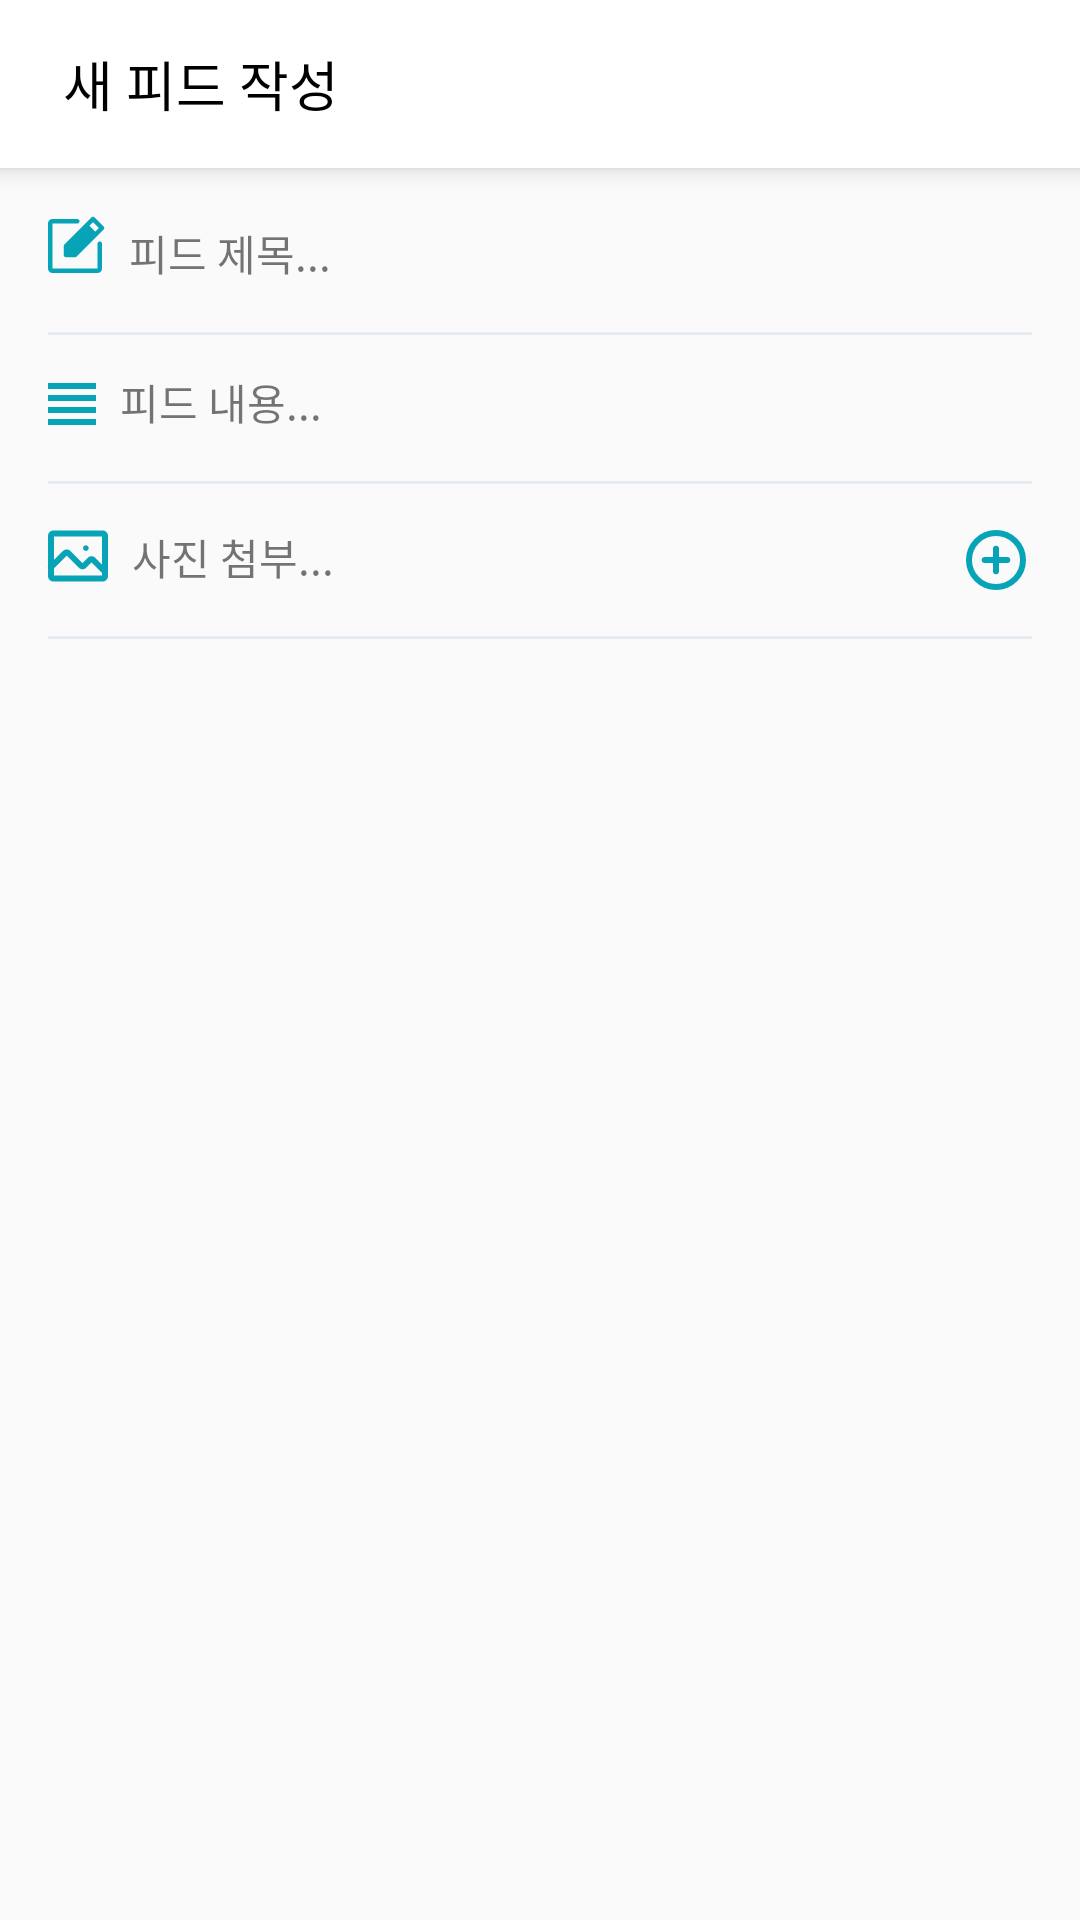

Named icons in this screenshot (1080×1920) and their centers, [x,y]:
add feed contain: [72,404]
add feed name: [76,244]
add feed photo: [78,556]
meeting pluscircle: [996,560]
